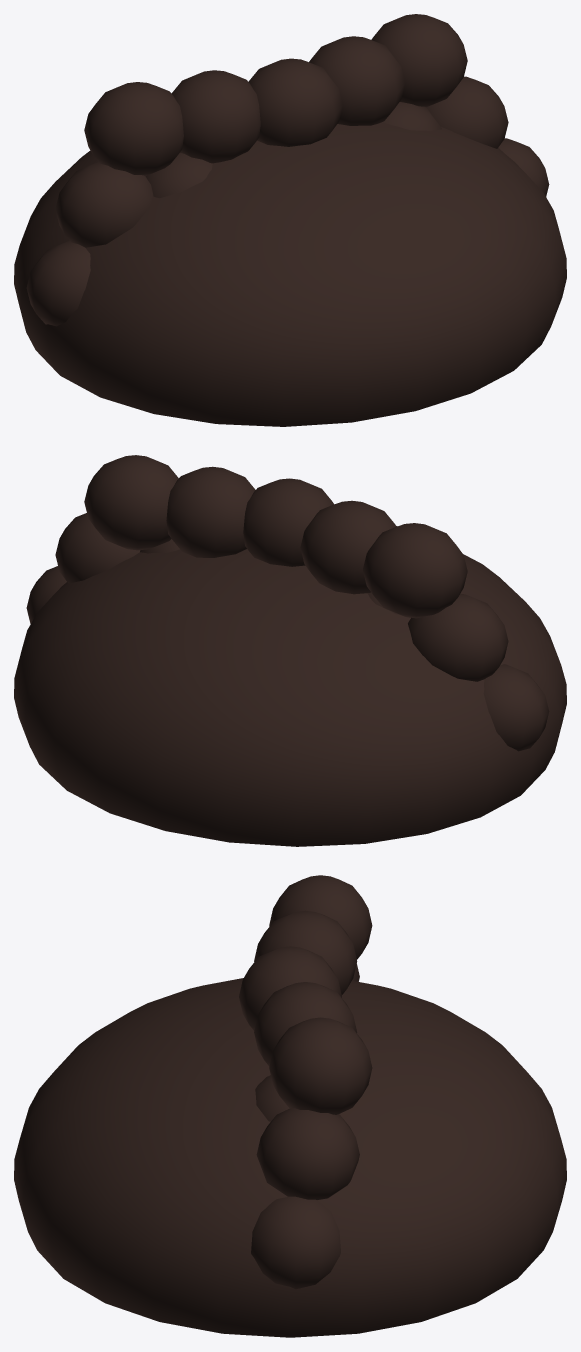
3 renders of one model, top to bottom at view 1: azimuth 30°, elevation 25°; view 2: azimuth 150°, elevation 25°; view 3: azimuth 270°, elevation 25°, orthographic. The views are drawn at different scales.
Parts seen in each view (by area): view 1: hair.curl-cloud.hair; view 2: hair.curl-cloud.hair; view 3: hair.curl-cloud.hair.
Boxes of the visible parts, x1,y1,x2,y2 form: hair.curl-cloud.hair: (14,14,566,426); hair.curl-cloud.hair: (14,455,566,846); hair.curl-cloud.hair: (14,875,566,1337).
Bounding box in the file's own units: 0.77 × 0.3691 × 0.69.
